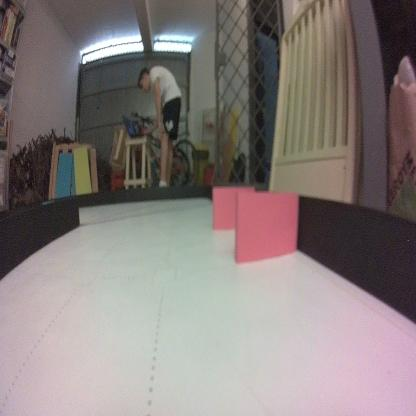magenta: (232, 191, 298, 266), (211, 184, 255, 230)
